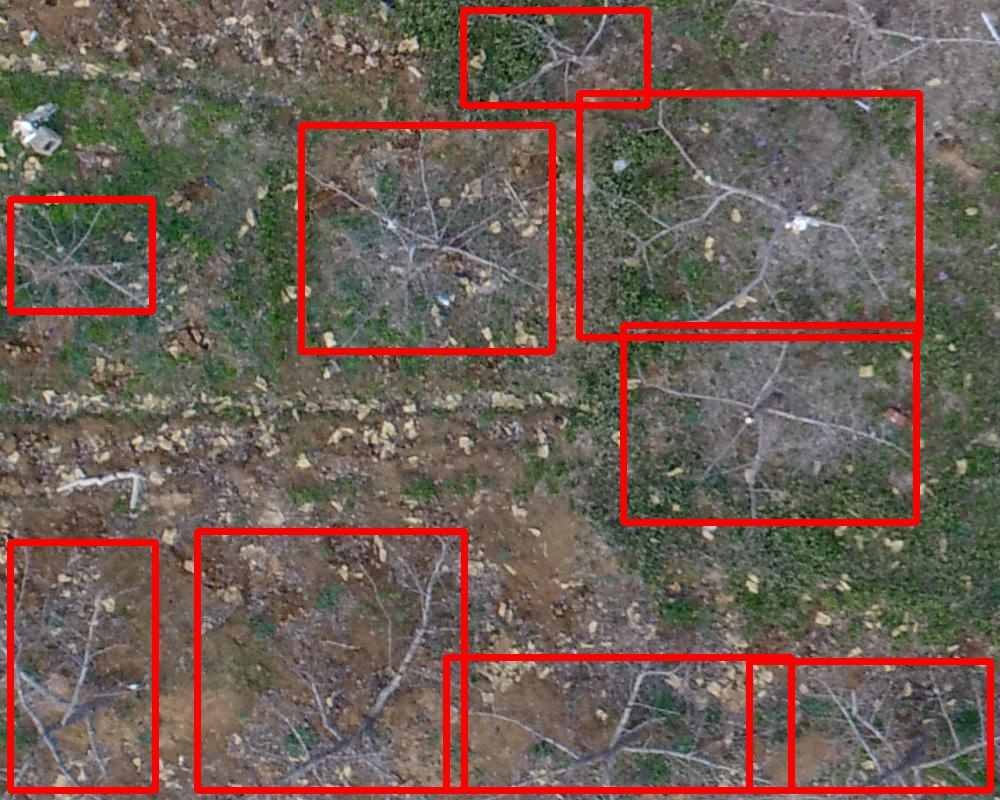apple: (579, 93, 919, 337), (197, 531, 464, 790), (623, 325, 916, 522), (301, 125, 552, 351), (446, 657, 791, 790), (10, 542, 155, 790), (749, 661, 990, 790), (463, 10, 647, 105), (10, 199, 152, 311)
